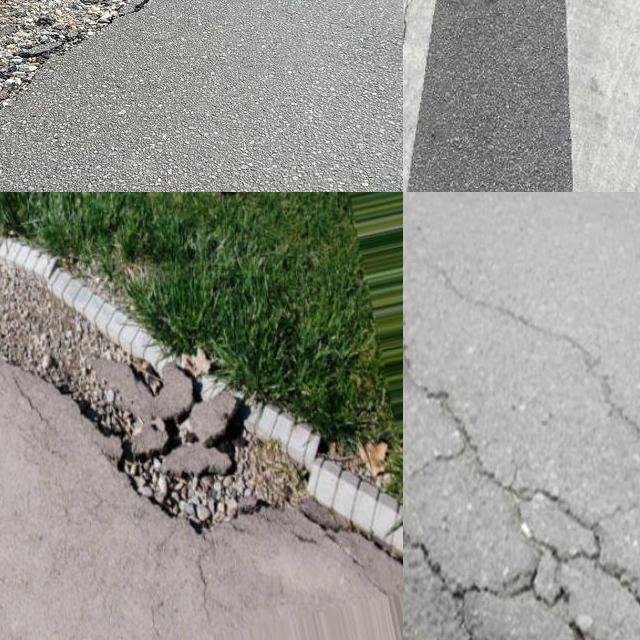Pinggir: (0, 192, 376, 594), (403, 359, 584, 640), (0, 0, 176, 119)
